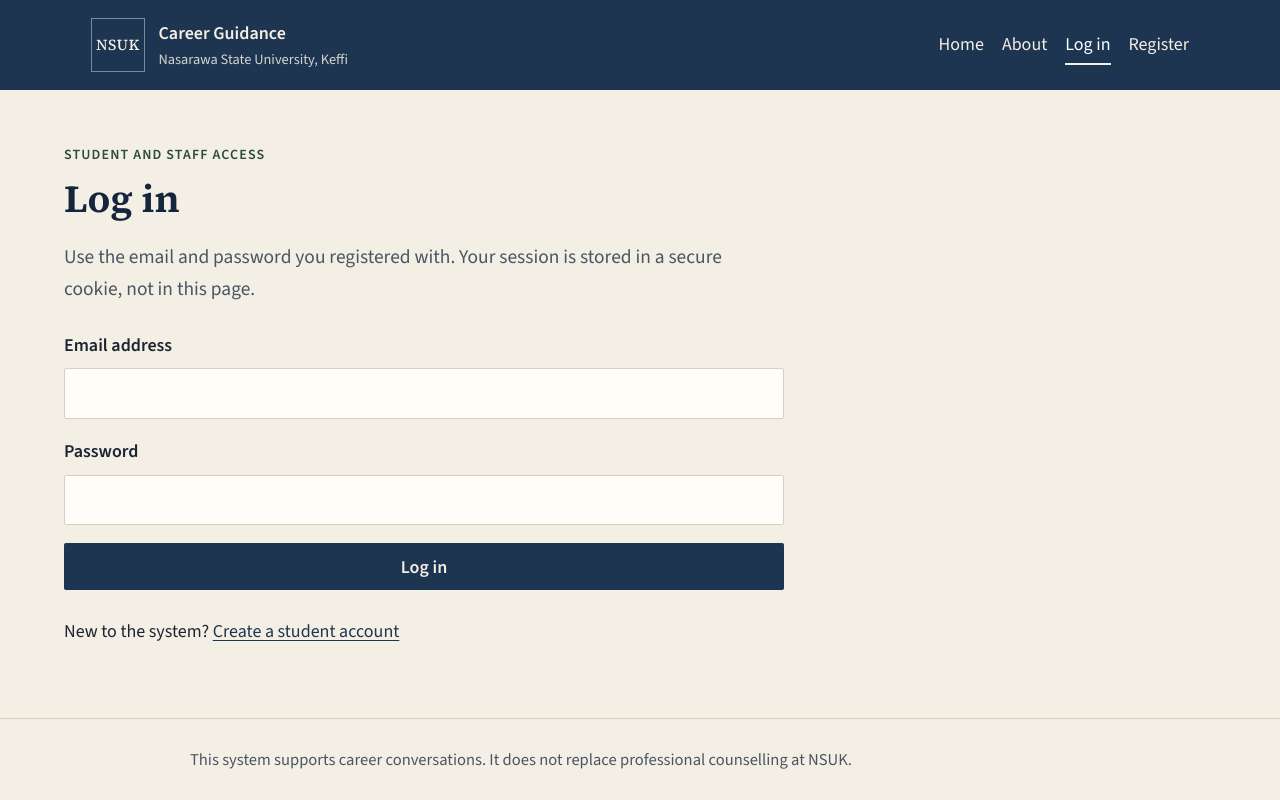
Test: login form authenticates and opens the dashboard
expect the heading "Log in" is shown: met, box [64,172,180,226]
expect the password field labelled "Password" is shown: met, box [64,475,784,525]
Type "amina@example.nsuk.test" into the field labelled "Email address" at coordinates (424, 394), box [64,368,784,419]
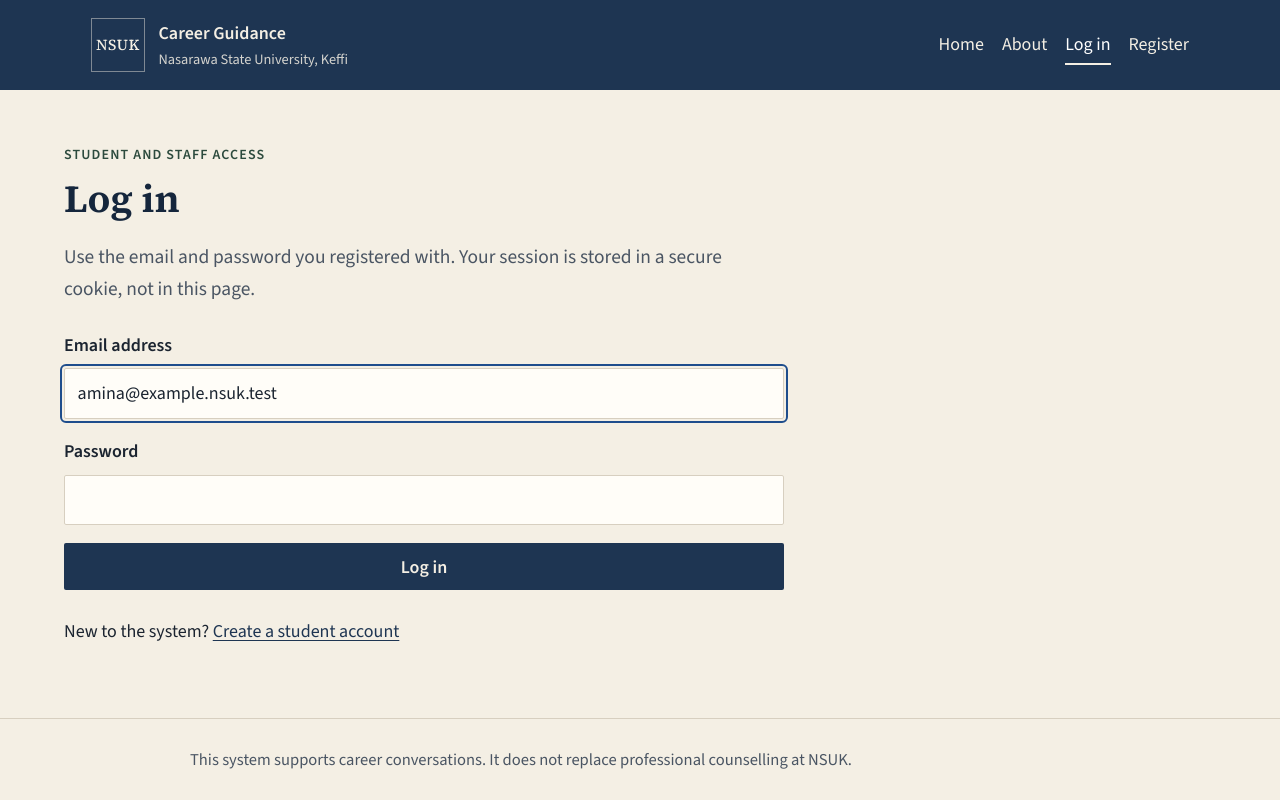
Type "CorrectHorse9" into the password field labelled "Password" at coordinates (424, 500), box [64,475,784,525]
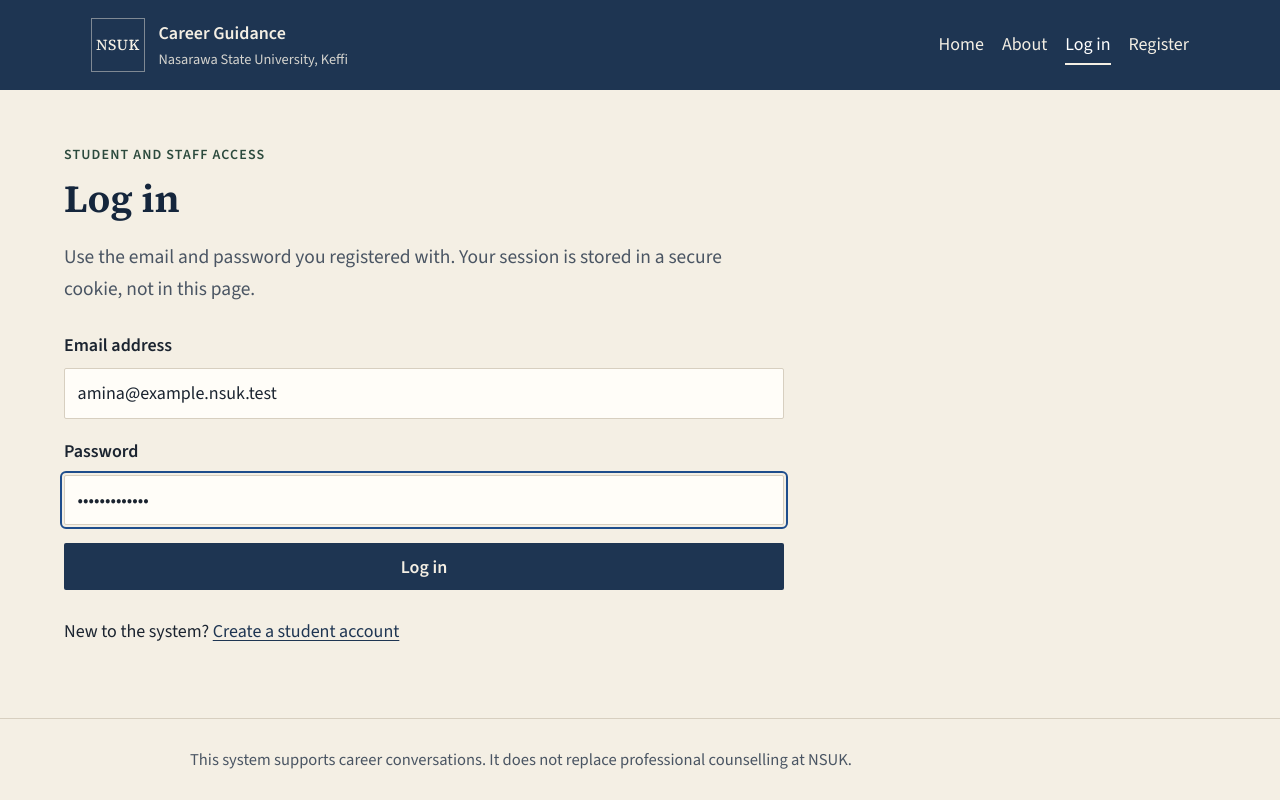
Click the button "Log in" at coordinates (424, 567), box [64,543,784,590]
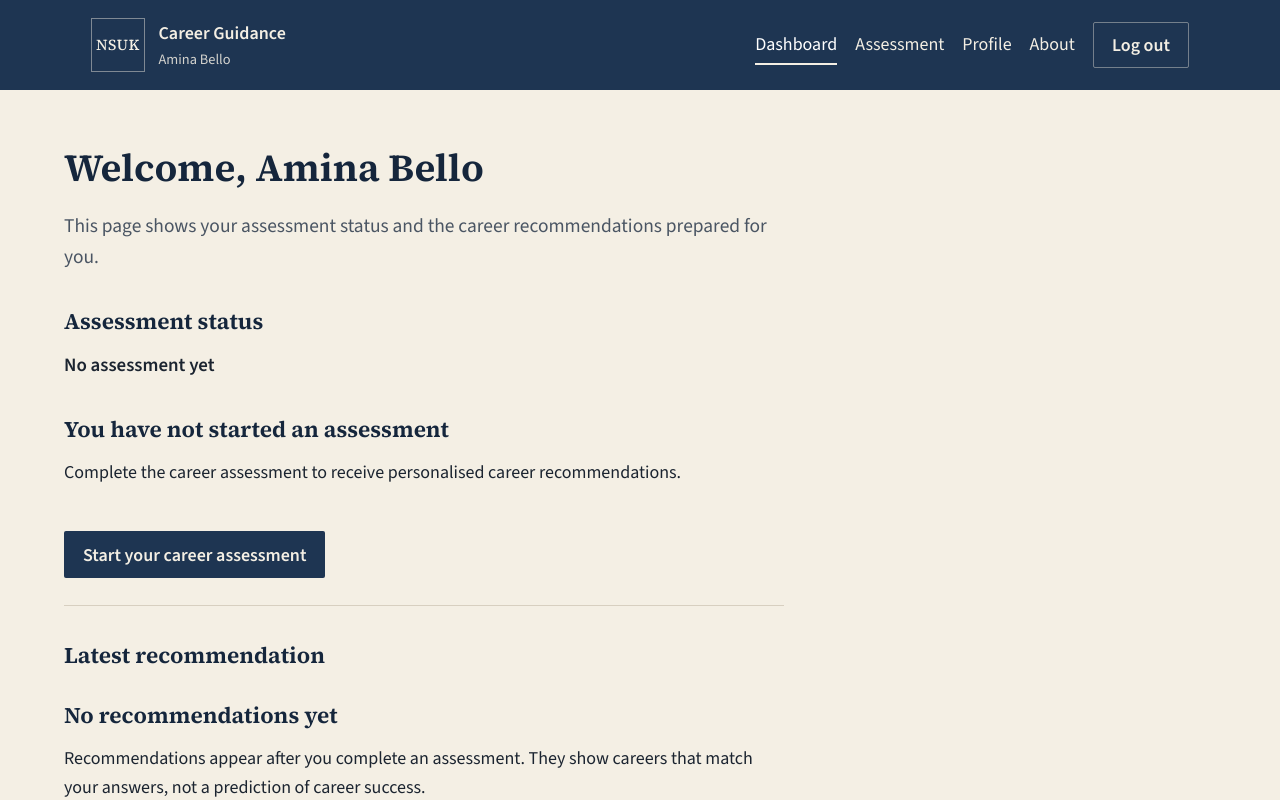
expect the heading "Welcome, Amina Bello" is shown: met, box [64,141,484,194]
